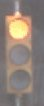Red: (3, 3, 34, 105)
